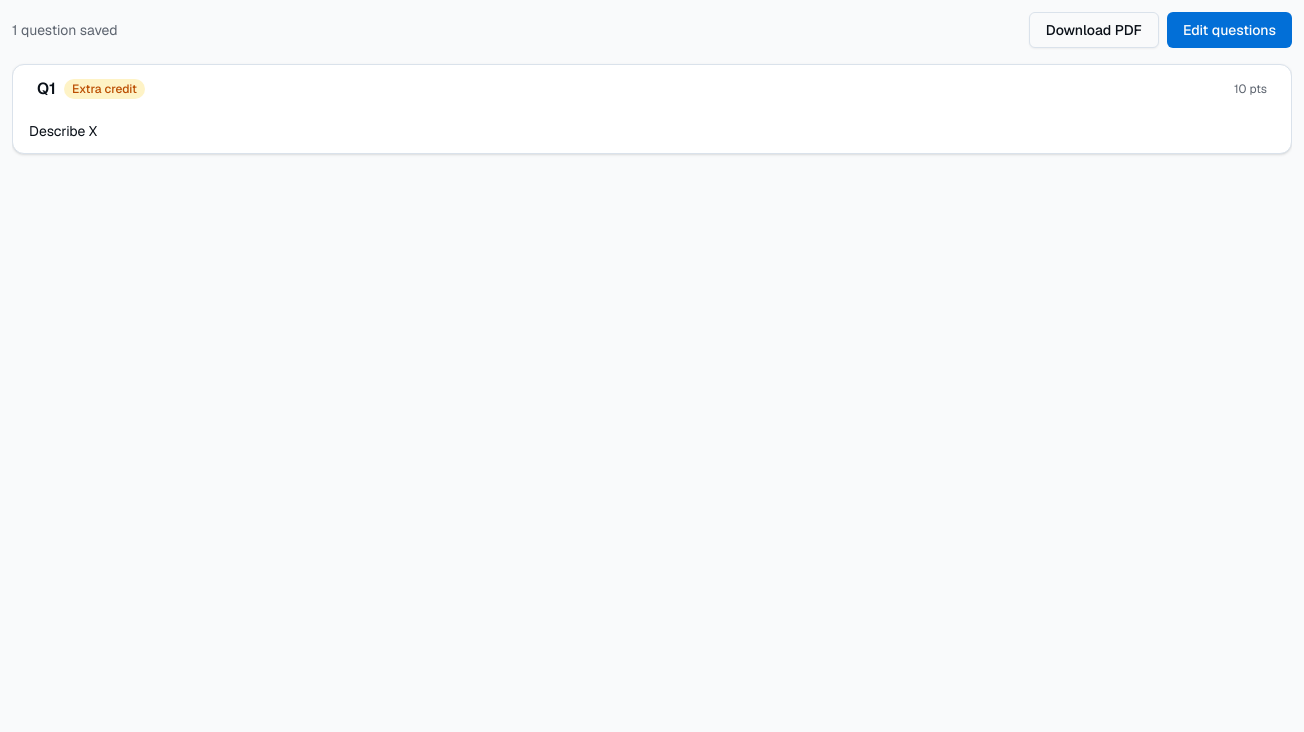
it: extra-credit checkbox › extra-credit checkbox is checked for a question with is_extra_credit=true
Click the button "Edit questions". click: {"x": 1229, "y": 30}
box: [1167,12,1292,48]
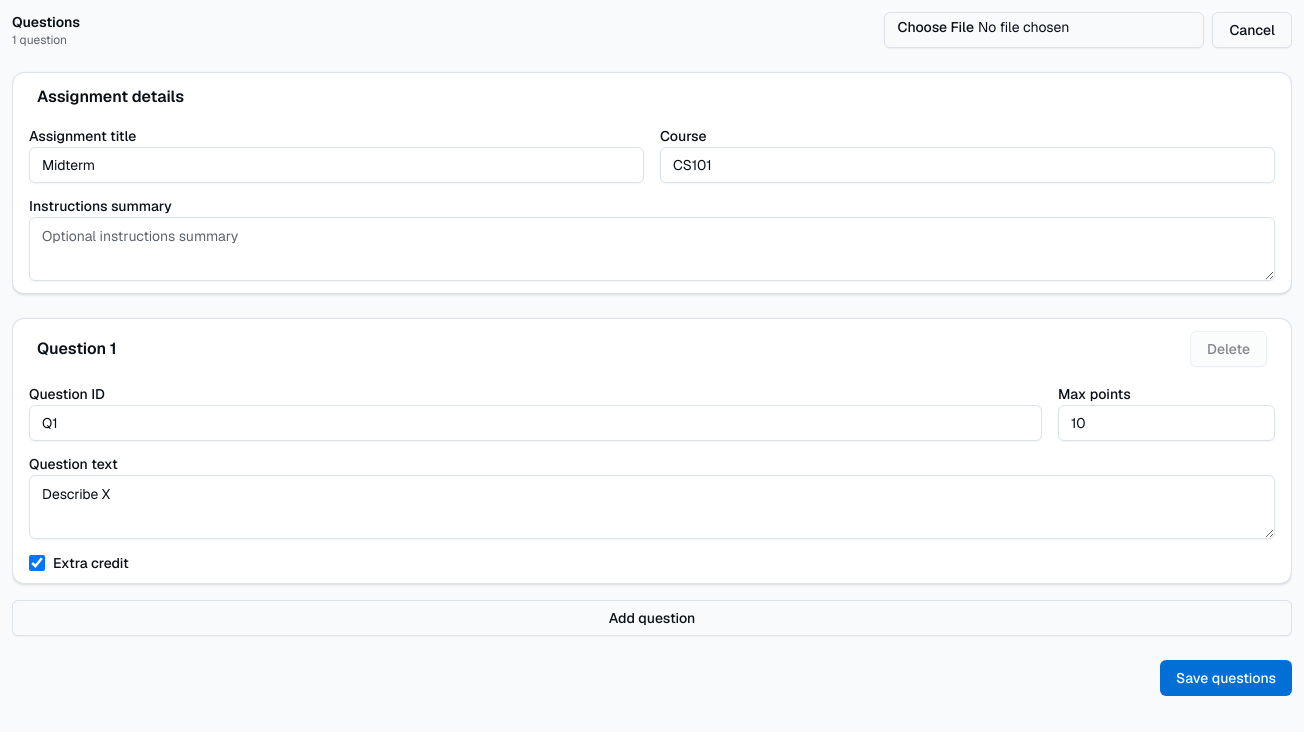
Result: the checkbox labelled "Extra credit" is checked at [29,555,45,571]
